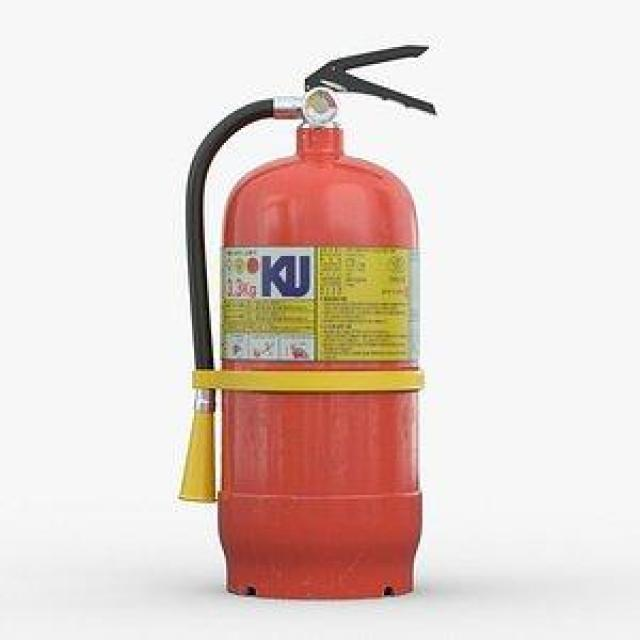fire_extinguisher: (168, 38, 440, 606)
